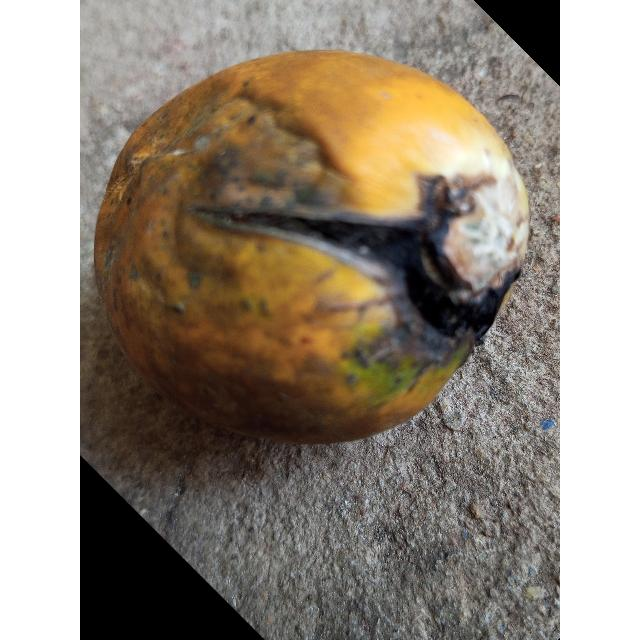damaged: (95, 51, 529, 443)
